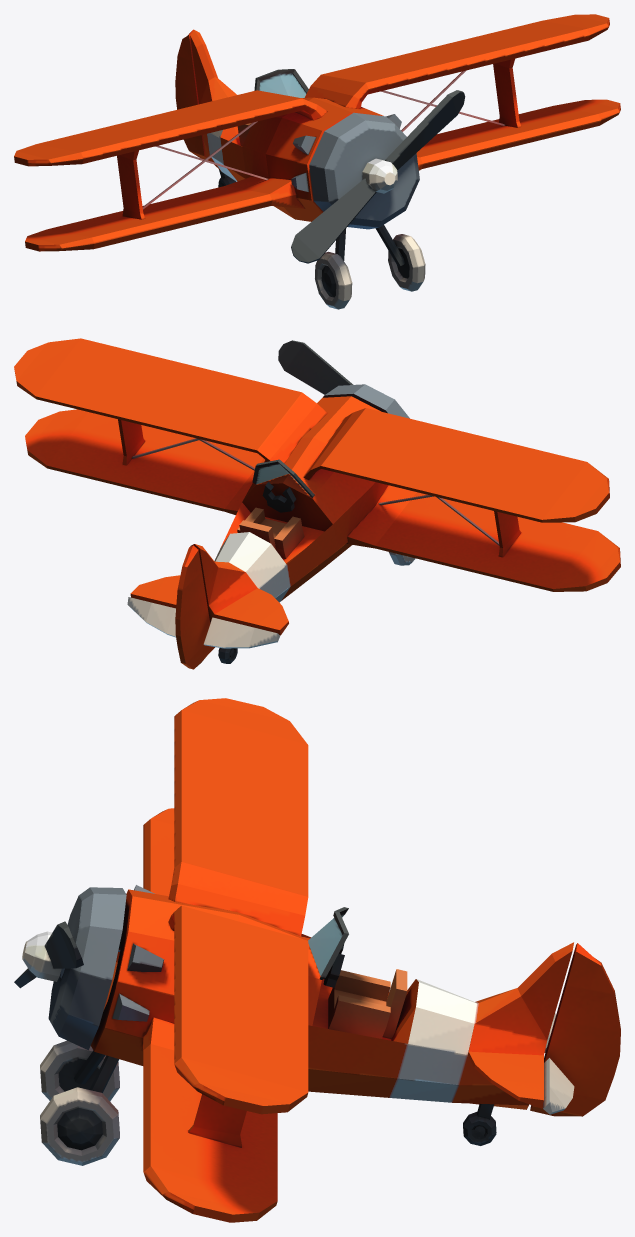
3 views of the same model, one above another, from view 1: azimuth 30°, elevation 25°; view 2: azimuth 150°, elevation 25°; view 3: azimuth 270°, elevation 25° (orthographic). The views are drawn at different scales.
Visible parts, largest first — view 1: PUSHILIN_Plane_Circle.000; view 2: PUSHILIN_Plane_Circle.000; view 3: PUSHILIN_Plane_Circle.000.
Part boxes in pixels (x1,y1,x2,y2): PUSHILIN_Plane_Circle.000: [14, 14, 620, 309]; PUSHILIN_Plane_Circle.000: [14, 338, 620, 669]; PUSHILIN_Plane_Circle.000: [14, 698, 620, 1222].
Bounding box in the file's own units: 3.78 × 1.21 × 2.43.
